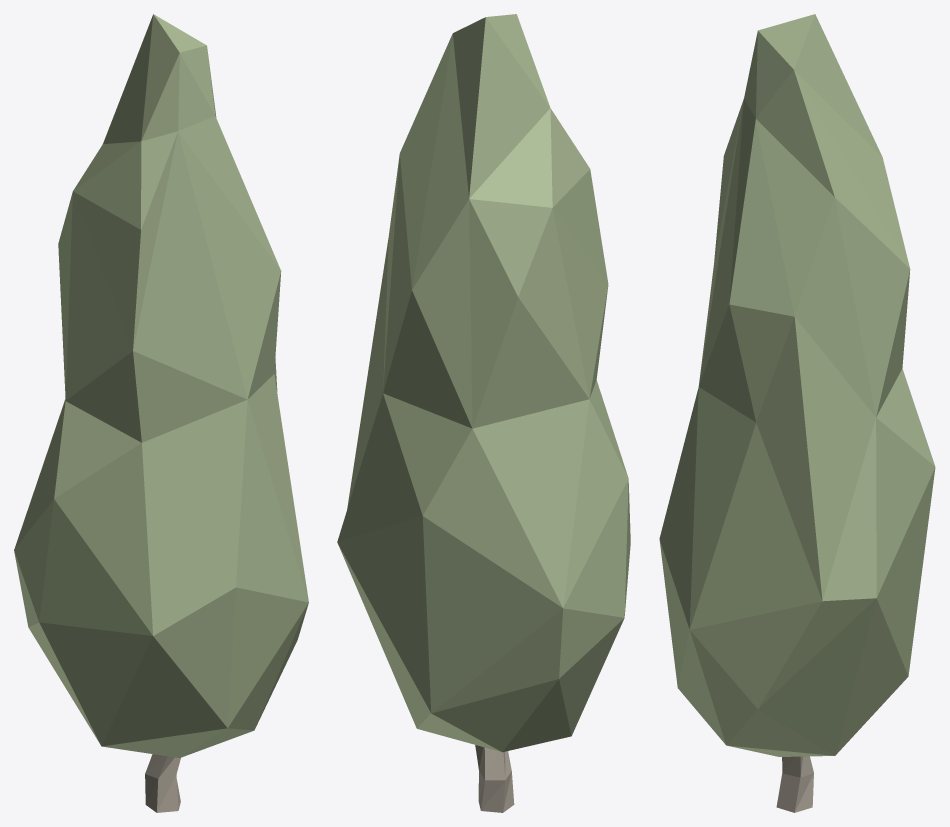
Rendered from CupressusLeylandii.glb.
3 views of the same model, side by side, from view 1: azimuth 30°, elevation 25°; view 2: azimuth 150°, elevation 25°; view 3: azimuth 270°, elevation 25° (orthographic).
Parts seen in each view (by area): view 1: Crown, Trunk; view 2: Crown, Trunk; view 3: Crown, Trunk.
Boxes of the visible parts, x1,y1,x2,y2 form: Crown: (14, 14, 308, 757); Trunk: (145, 754, 180, 812); Crown: (337, 14, 630, 752); Trunk: (475, 745, 514, 812); Crown: (659, 14, 935, 756); Trunk: (776, 756, 813, 812).
Size of the model in its own units: 2.46 by 7.13 by 2.26.
